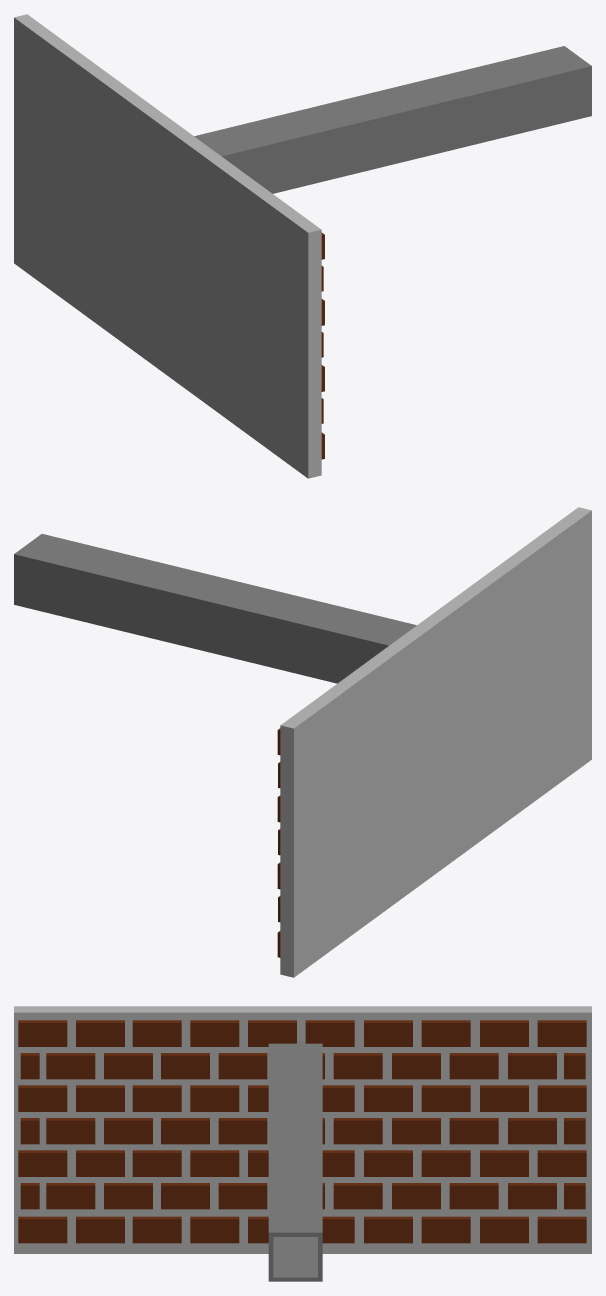
File: (Muro,Perlin Cuadrado).fbx
3 views of the same model, one above another, from view 1: azimuth 30°, elevation 25°; view 2: azimuth 150°, elevation 25°; view 3: azimuth 270°, elevation 25° (orthographic). The views are drawn at different scales.
Parts seen in each view (by area): view 1: Muro Completo, Perlin Cuadrado.002; view 2: Muro Completo, Perlin Cuadrado.002; view 3: Muro Completo, Perlin Cuadrado.002.
Boxes of the visible parts, x1,y1,x2,y2 form: Muro Completo: (14, 14, 324, 478); Perlin Cuadrado.002: (194, 46, 591, 193); Muro Completo: (277, 507, 591, 977); Perlin Cuadrado.002: (14, 534, 416, 683); Muro Completo: (14, 1006, 591, 1253); Perlin Cuadrado.002: (268, 1041, 322, 1281).
Size of the model in its own units: 1038 by 590 by 1279.
